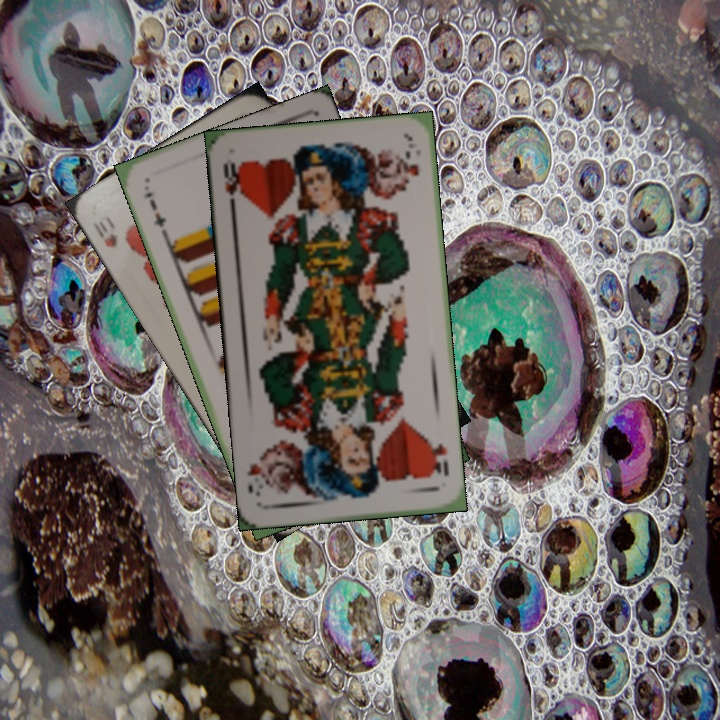E7: (139, 187, 170, 237)
H10: (89, 212, 121, 251)
HO: (219, 159, 244, 213), (425, 433, 451, 479)
